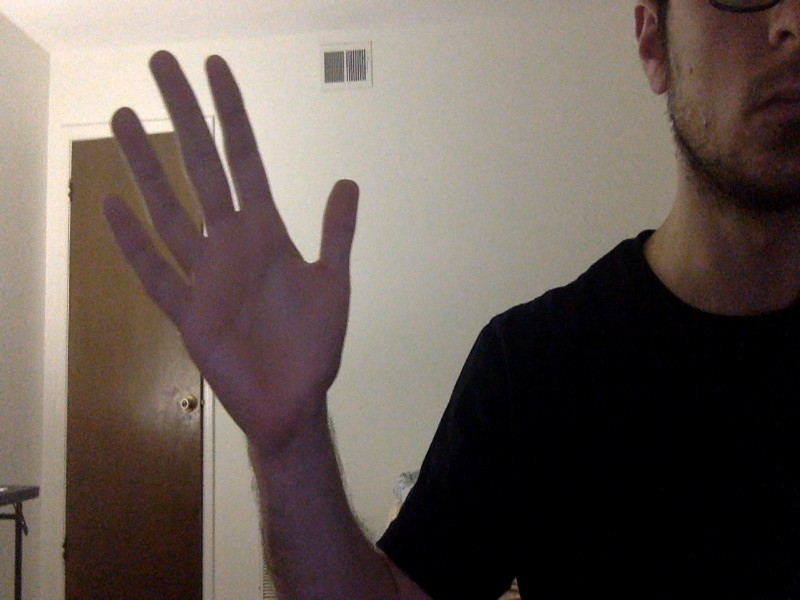5-hand: (104, 50, 367, 451)
